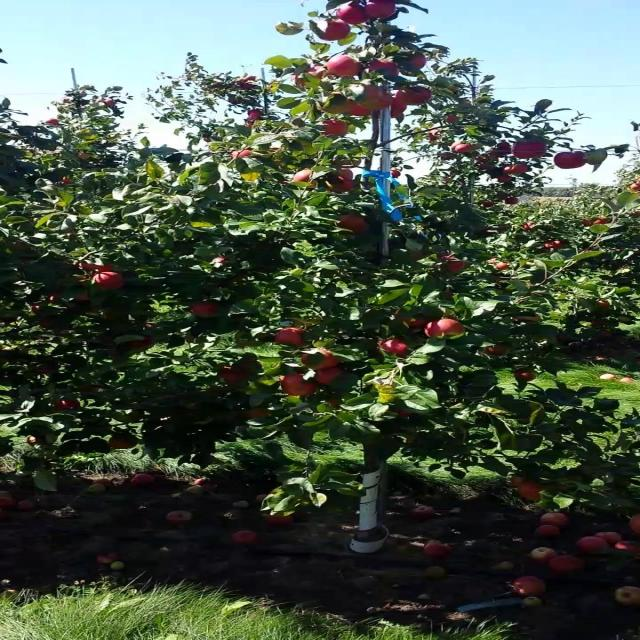apple: (326, 56, 363, 76), (284, 376, 320, 396), (426, 320, 468, 337), (397, 88, 434, 107), (319, 20, 352, 41), (92, 272, 128, 291), (276, 328, 308, 348), (319, 96, 352, 115), (554, 152, 588, 170), (305, 352, 341, 369), (340, 4, 370, 24), (369, 0, 398, 20), (518, 144, 548, 160), (326, 176, 356, 192), (369, 60, 398, 76), (333, 172, 356, 192), (383, 340, 411, 356), (319, 368, 347, 384), (397, 314, 428, 328), (220, 368, 247, 384), (340, 216, 368, 231), (518, 484, 542, 501), (127, 336, 156, 350), (191, 304, 220, 317), (326, 120, 348, 136), (483, 344, 512, 356), (77, 264, 114, 273), (348, 104, 372, 116), (56, 400, 82, 411), (504, 164, 530, 175), (390, 100, 407, 116), (371, 96, 389, 111), (248, 408, 270, 420), (490, 260, 512, 272), (362, 88, 384, 100), (113, 440, 135, 451), (305, 68, 327, 79), (70, 292, 92, 303), (447, 264, 468, 274), (518, 372, 539, 382), (77, 384, 100, 393), (511, 476, 528, 488), (497, 144, 514, 156), (511, 316, 540, 323), (454, 144, 476, 153), (298, 172, 313, 184), (412, 56, 427, 68), (390, 108, 405, 120), (49, 292, 64, 304), (312, 68, 327, 79), (77, 292, 92, 302), (483, 152, 501, 160), (234, 152, 251, 160), (42, 320, 57, 328), (326, 400, 341, 408), (42, 368, 55, 376), (547, 244, 565, 249), (298, 76, 306, 87), (390, 172, 402, 179), (397, 412, 412, 417), (440, 256, 455, 261), (28, 440, 37, 445)
